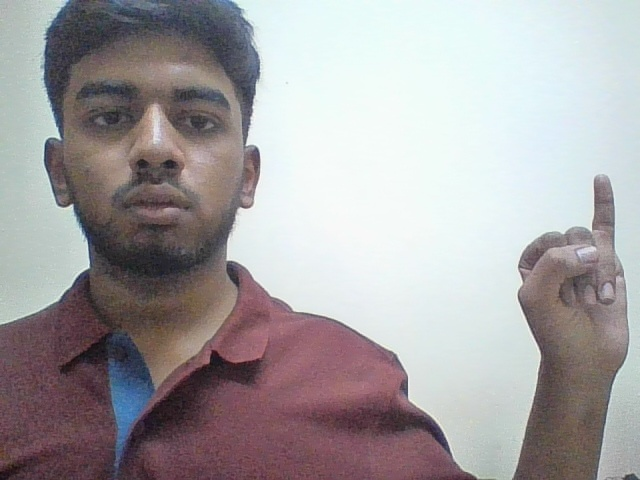I: (502, 149, 640, 388)
